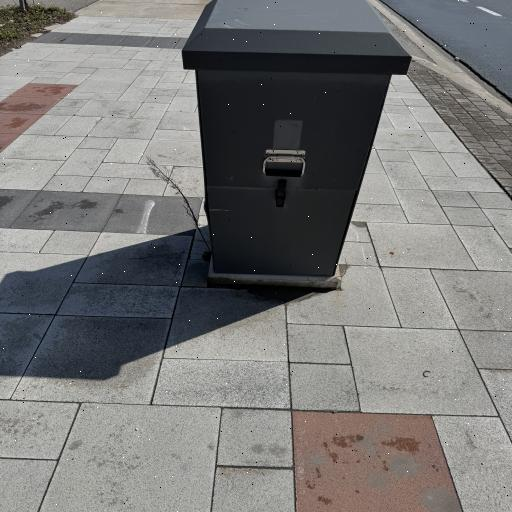Electrical Box: (180, 0, 412, 285)
